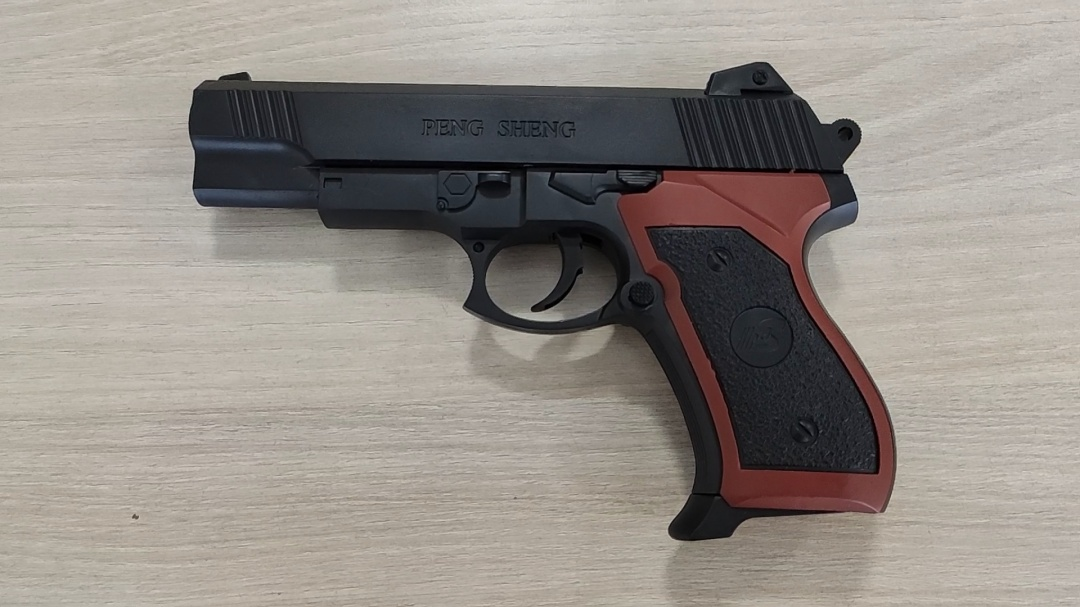gun: (504, 168, 604, 328)
